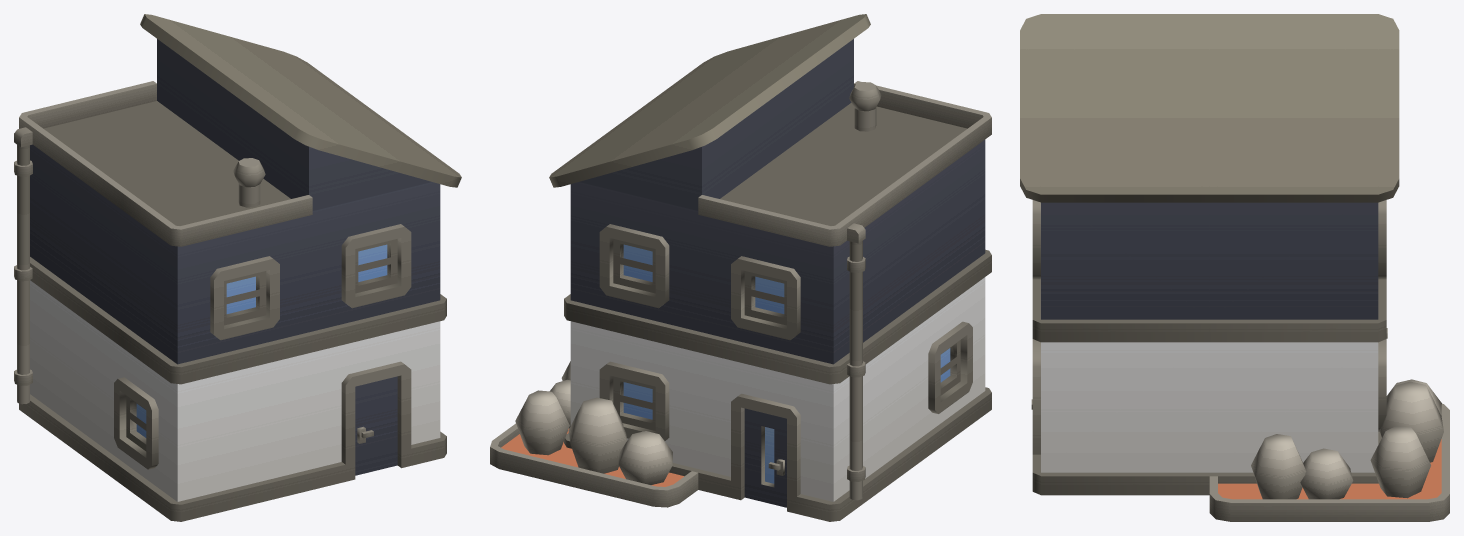
Rendered from sub-building-type-l.glb.
3 renders of one model, left to right at view 1: azimuth 30°, elevation 25°; view 2: azimuth 150°, elevation 25°; view 3: azimuth 270°, elevation 25°, orthographic. The views are drawn at different scales.
Visible parts, largest first — view 1: building-type-l; view 2: building-type-l; view 3: building-type-l.
Boxes of the visible parts, x1,y1,x2,y2 form: building-type-l: [14, 14, 461, 521]; building-type-l: [490, 14, 991, 521]; building-type-l: [1020, 14, 1449, 521].
Size of the model in its own units: 1.03 by 1.05 by 1.02.
1 material, 1 textured.
